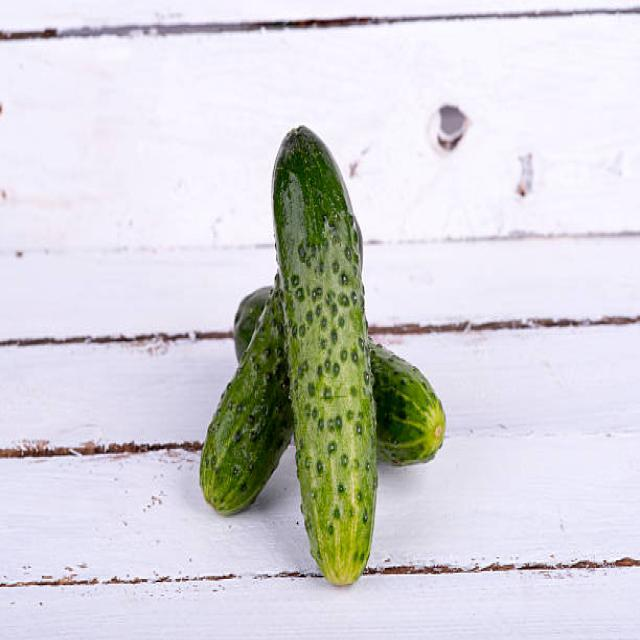cucumber: (272, 125, 377, 591), (200, 266, 294, 516)
